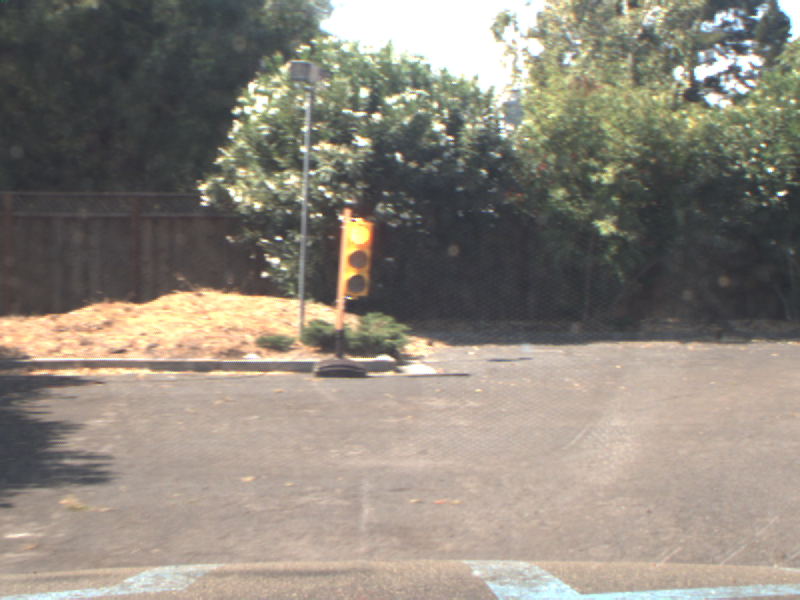red: (338, 209, 372, 300)
